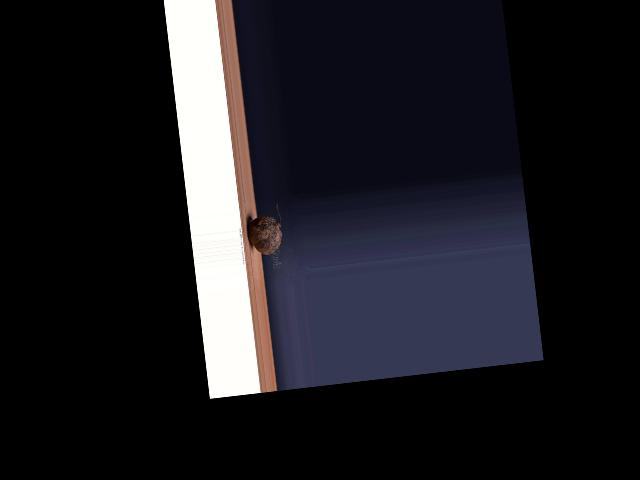beet: (245, 202, 284, 256)
